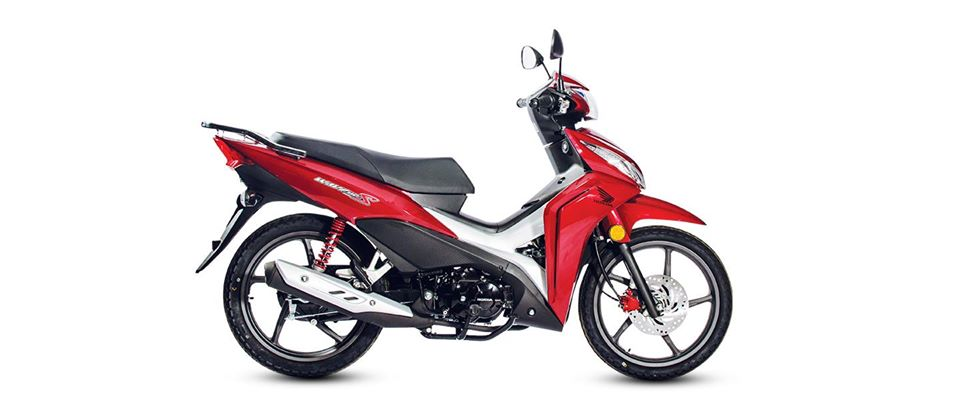moto: (176, 24, 736, 387)
